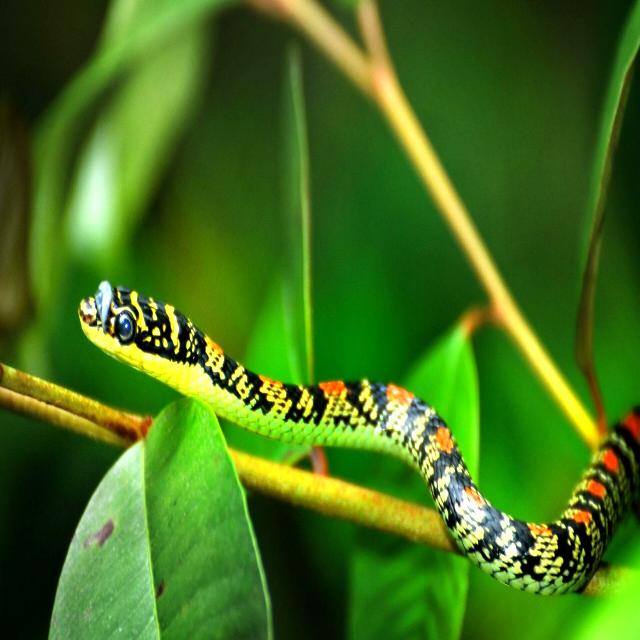Chrysopelea ornata: (79, 283, 639, 594)
